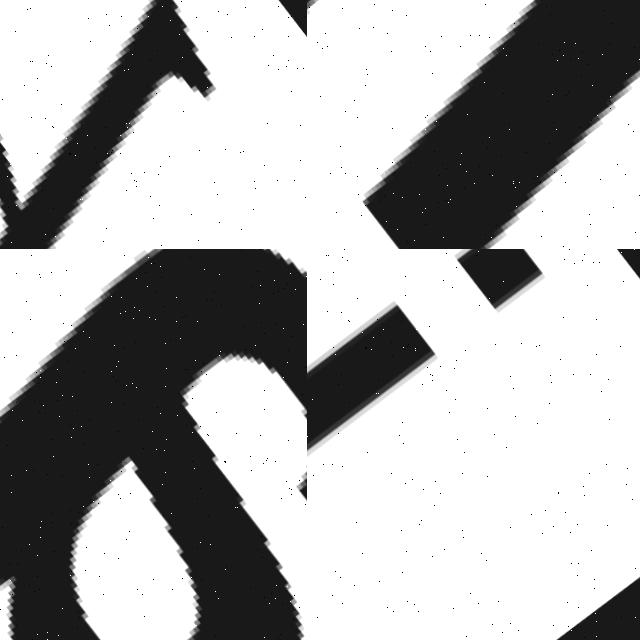A: (0, 249, 307, 640)
H: (0, 0, 215, 249)
I: (307, 249, 563, 600)
N: (307, 0, 640, 249)
